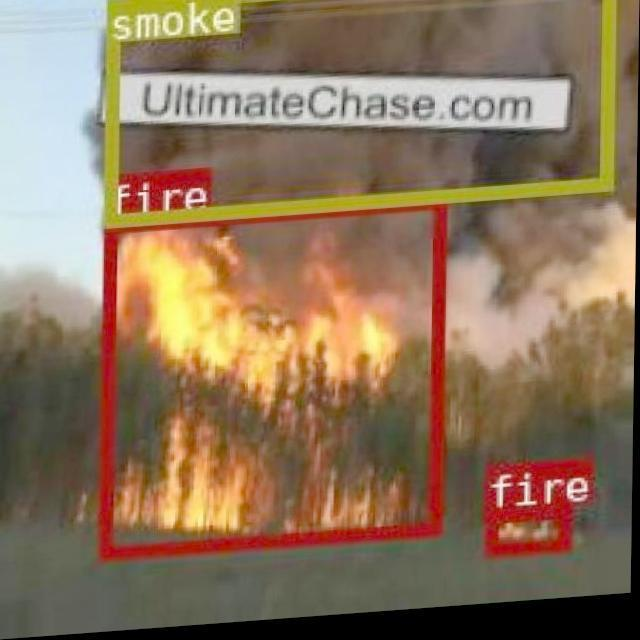Fire: (116, 200, 428, 570)
Smoke: (120, 0, 626, 364)
